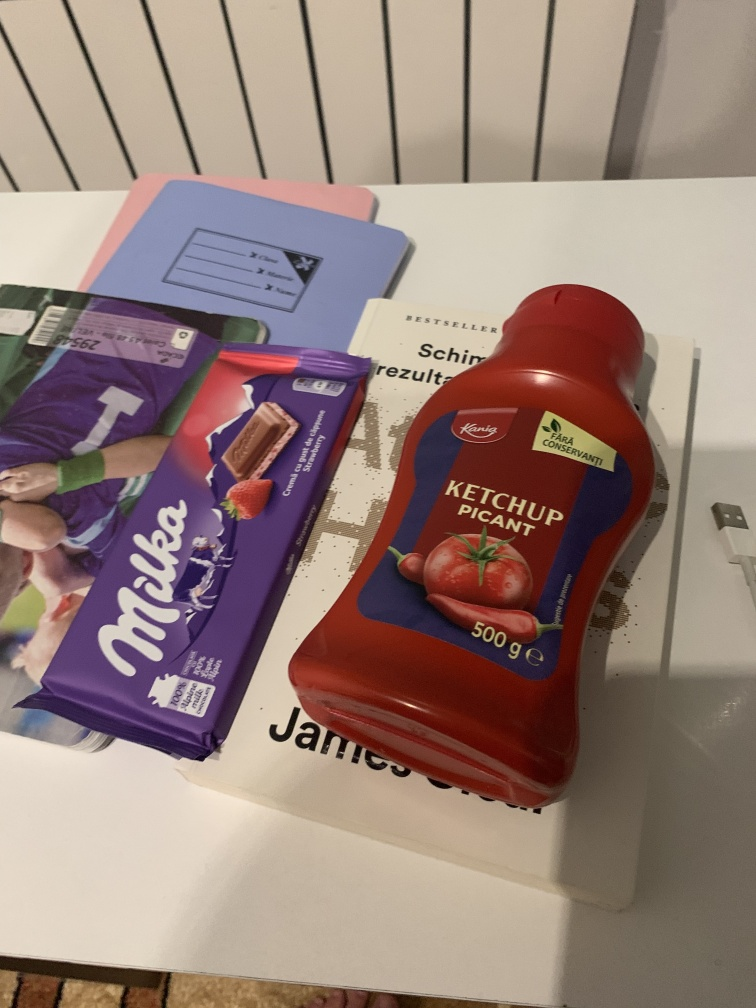ketchup: (290, 276, 669, 827)
milka: (17, 336, 377, 765)
